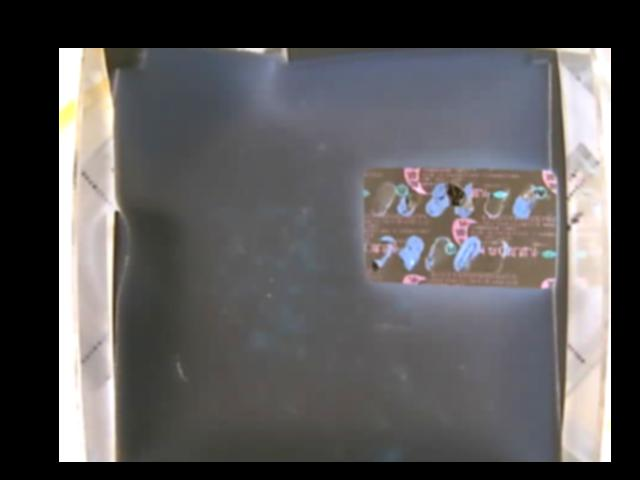Medicine: (361, 167, 560, 291)
